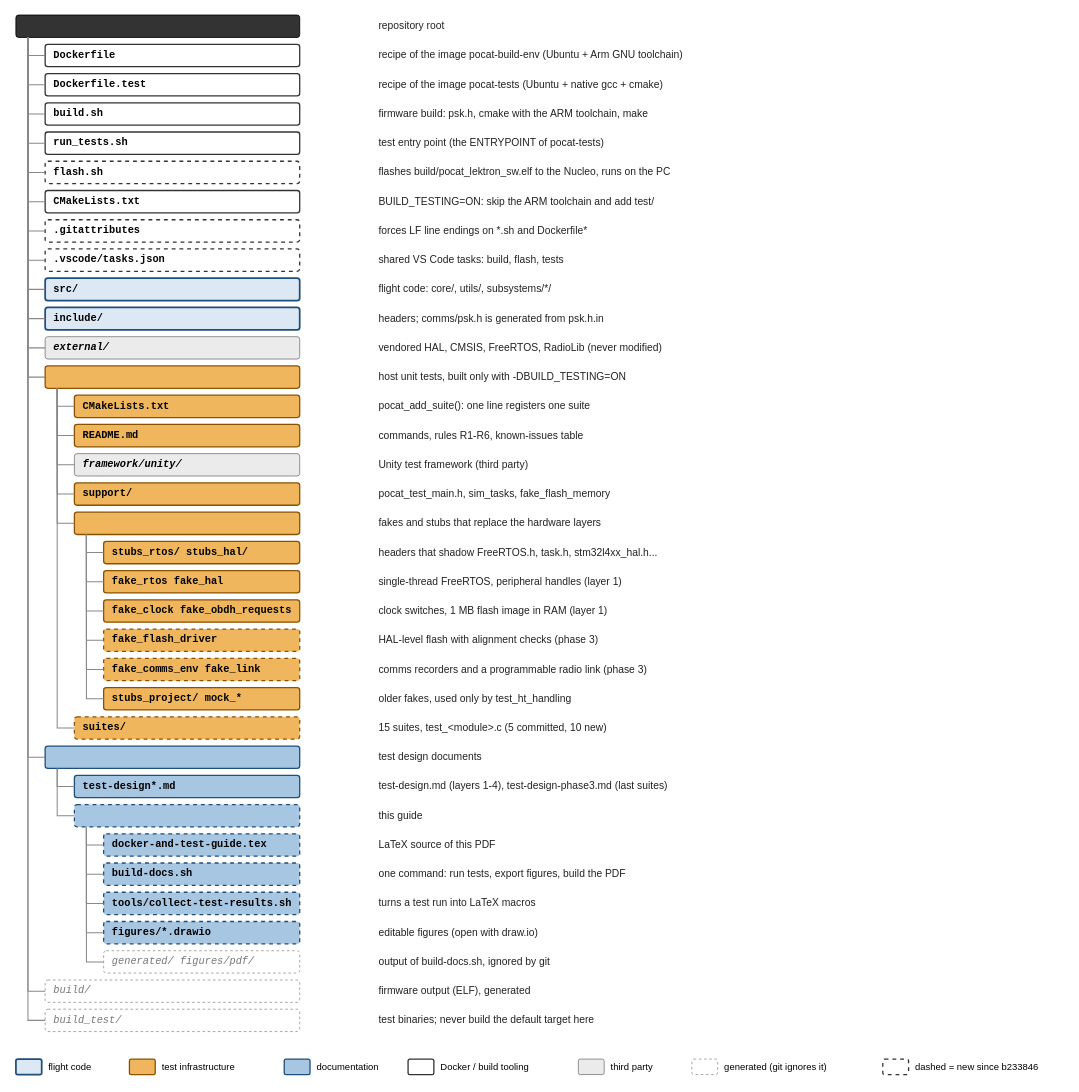
Image size: 1079x1092. Some labels were removed from this diagram. Here are the shapes that lost their labels. From the top down, the centre of each, then its label:
At point (157, 25): "pocat-lektron-sw/".
At point (172, 377): "test/".
At point (186, 523): "mocks/".
At point (172, 757): "docs/testing/".
At point (186, 815): "overview/".
